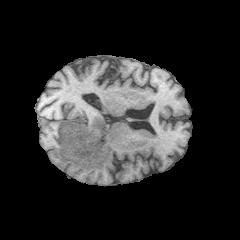glioma: (56, 117, 116, 171)
